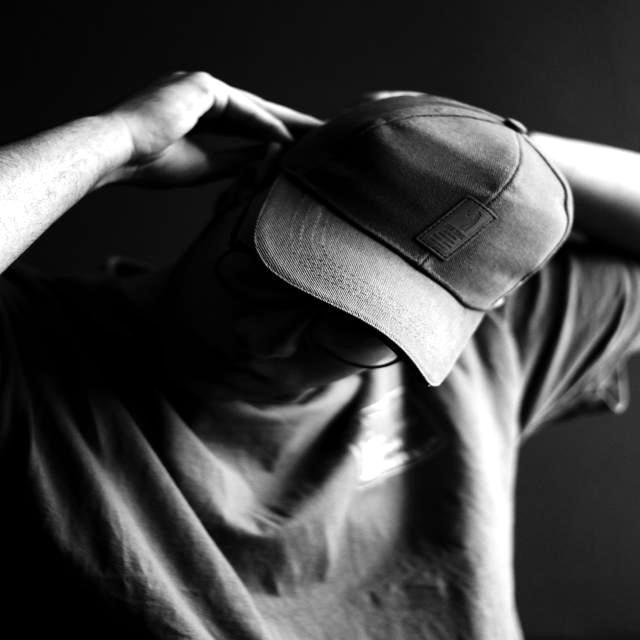no_hard_hat: (254, 93, 574, 386)
person: (0, 73, 640, 640)
